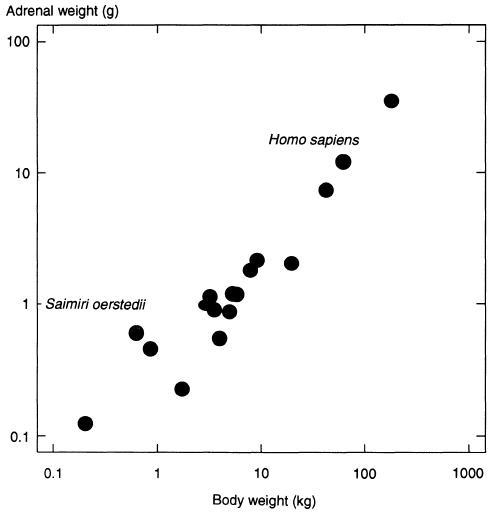axis: (34, 443, 488, 457), (32, 19, 46, 459)
point: (331, 152, 358, 175), (74, 411, 98, 435), (136, 339, 164, 359), (380, 89, 404, 112), (124, 322, 149, 343), (169, 380, 195, 400), (282, 252, 304, 275), (209, 328, 232, 349), (238, 261, 261, 282), (316, 180, 338, 201), (247, 250, 270, 270), (218, 303, 240, 322), (220, 280, 237, 302), (230, 285, 249, 304), (203, 302, 223, 320), (200, 287, 220, 303), (192, 299, 212, 313)
